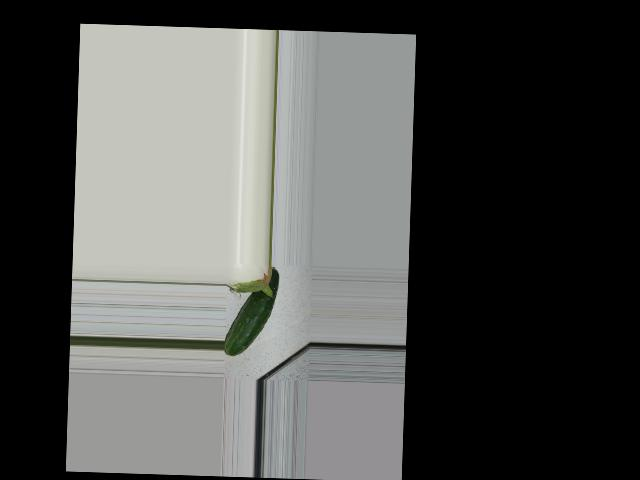cucumber: (223, 265, 278, 357)
